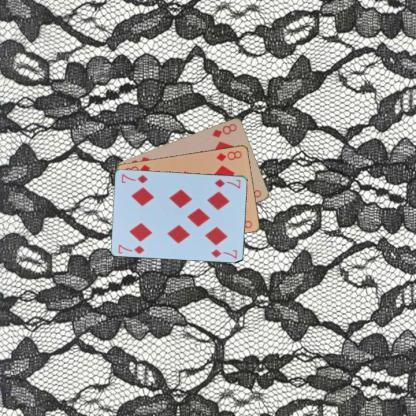7d: (212, 176, 242, 190), (116, 241, 146, 255)
8d: (209, 121, 238, 138), (214, 148, 243, 162)
